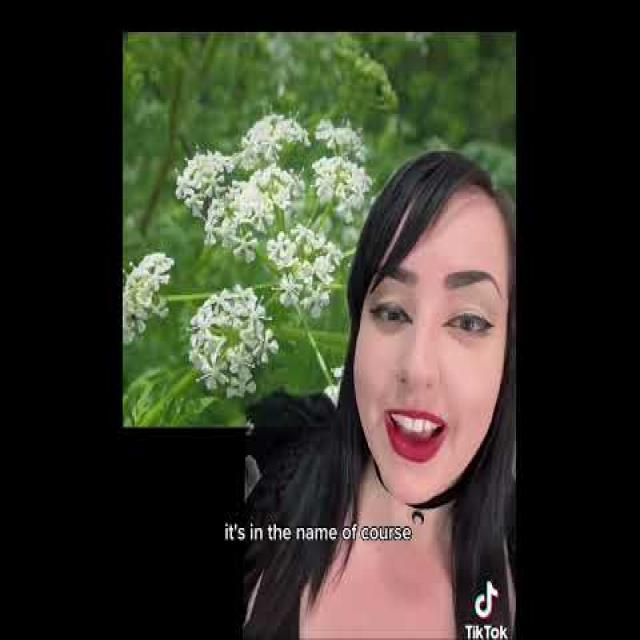Poisonous-Hemlock: (126, 105, 343, 392)
